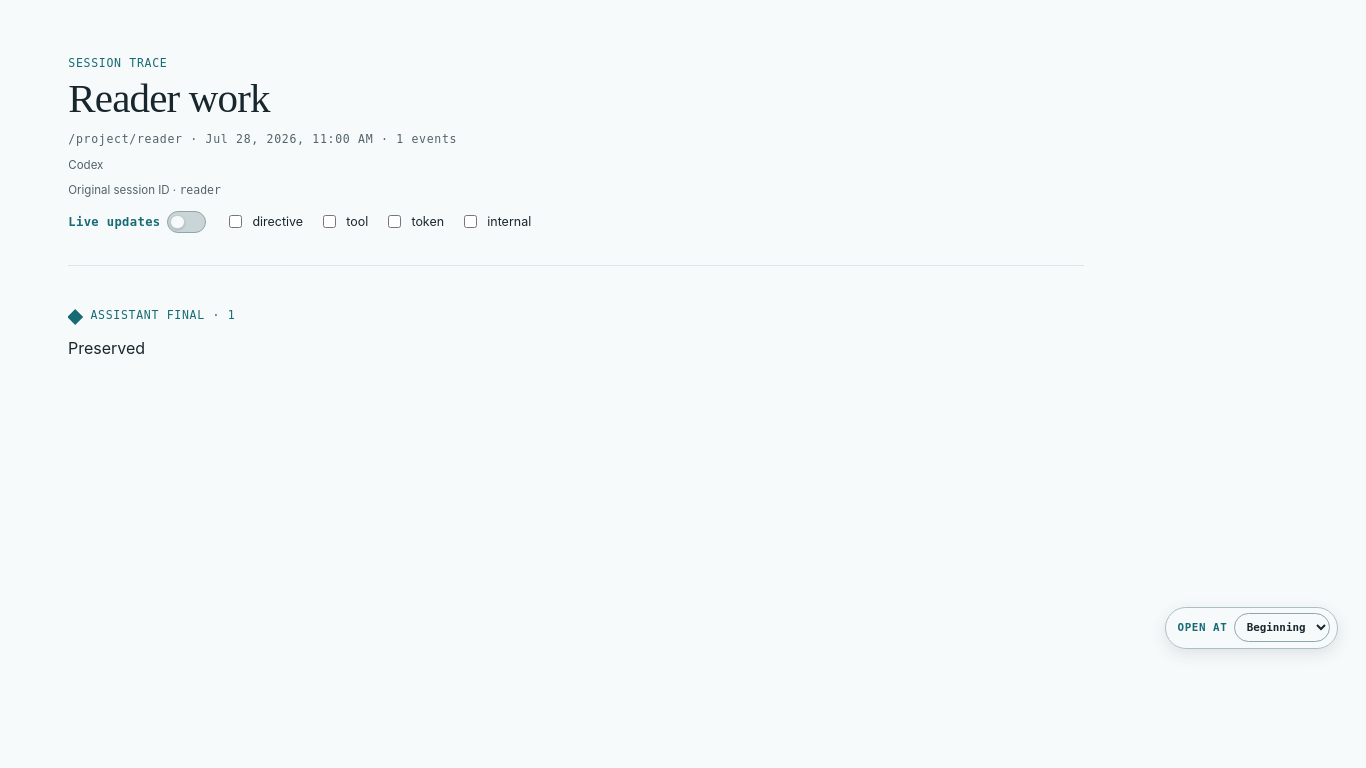
Test case: session Live updates › freezes the reader on a Live timeline conflict
Step 1. Click the switch named "Live updates" → (186, 222), box [167,211,206,233]
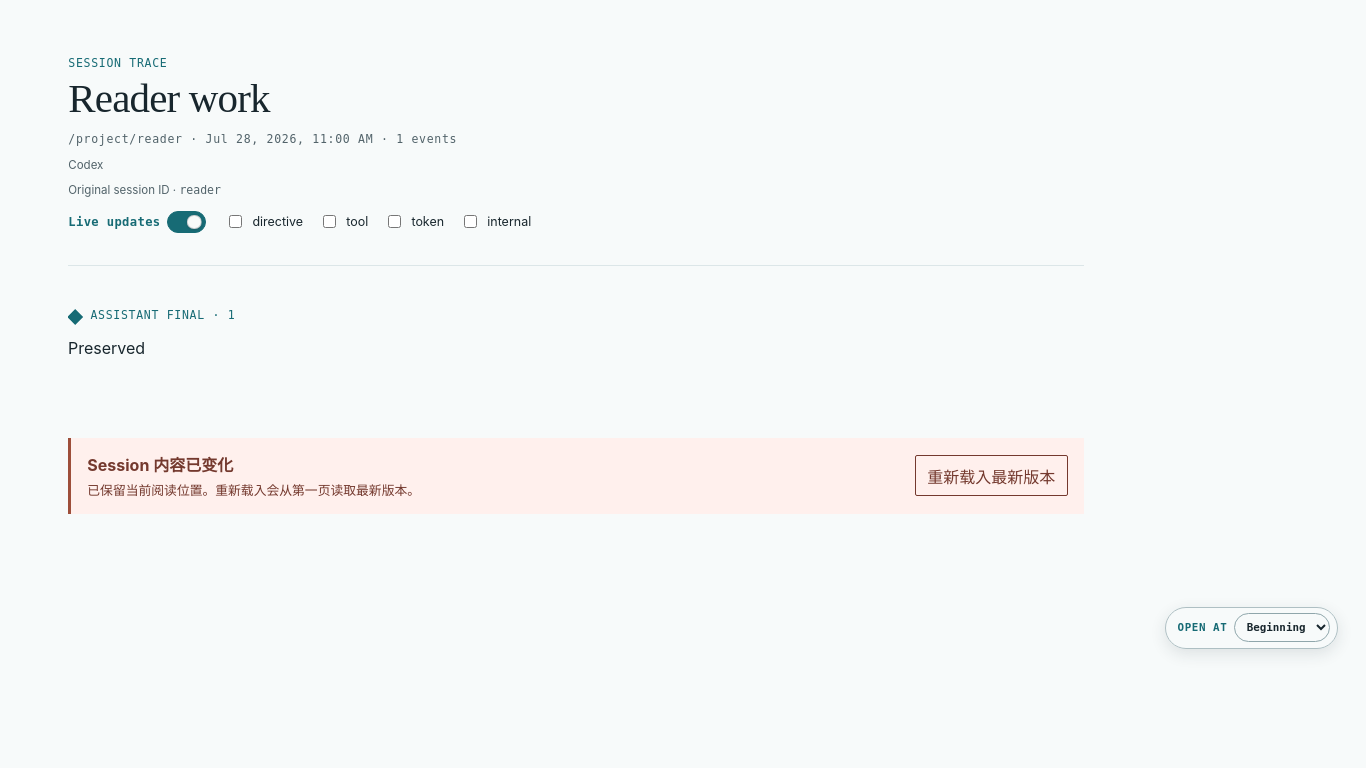
Expected: the text "Preserved" is shown, [68,337,146,357]
Now the text "Session 内容已变化" is shown, box [87,455,233,475]
